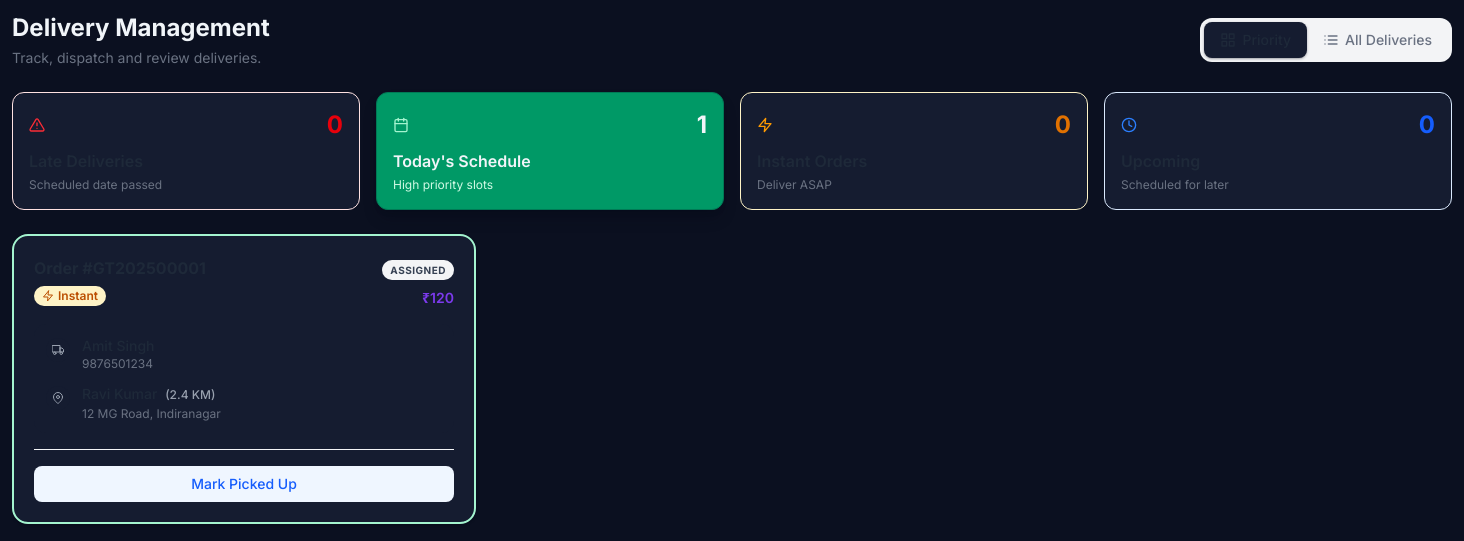
Scenario: AdminDeliveries history view › renders the priority queue by default and switches to a filtered delivery history table
Check: the text "Today's Schedule" is shown, box [393,151,531,171]
Click the button "All Deliveries". click: x=1378, y=40
box: [1307,22,1448,58]
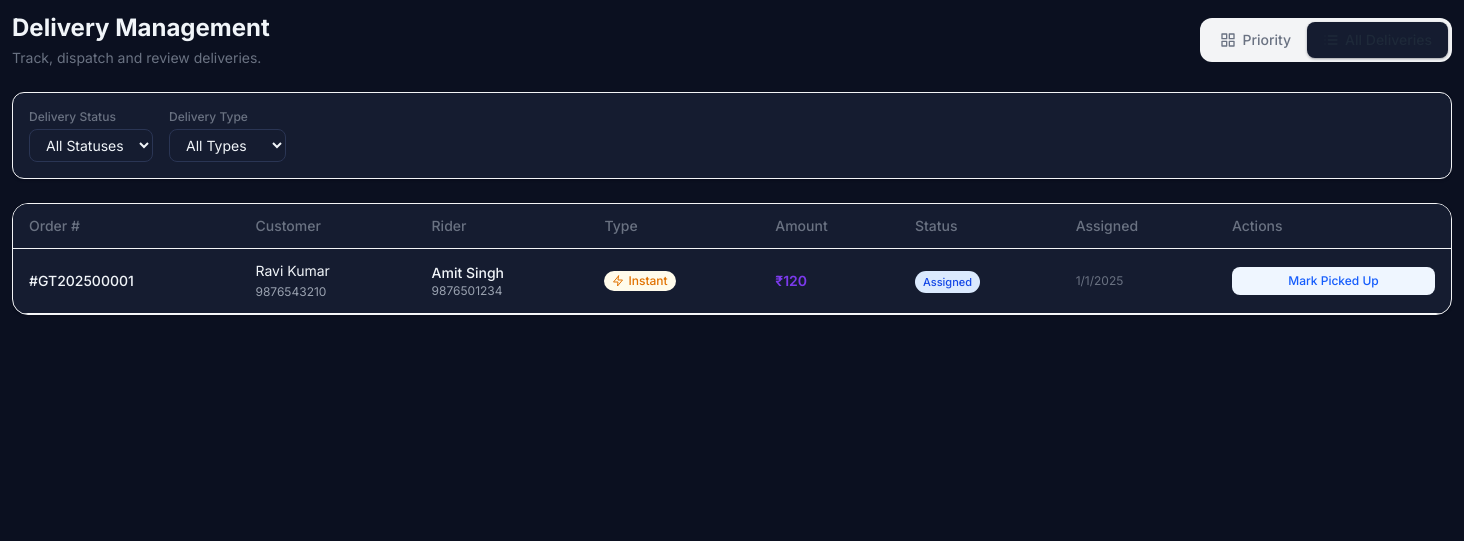
Check: the text "#GT202500001" is shown, box [13,248,240,314]
Check: the text "Ravi Kumar" is shown, box [256,262,330,279]
